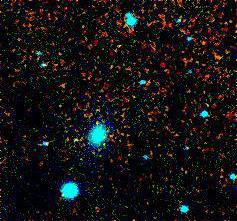star: (78, 109, 108, 139)
